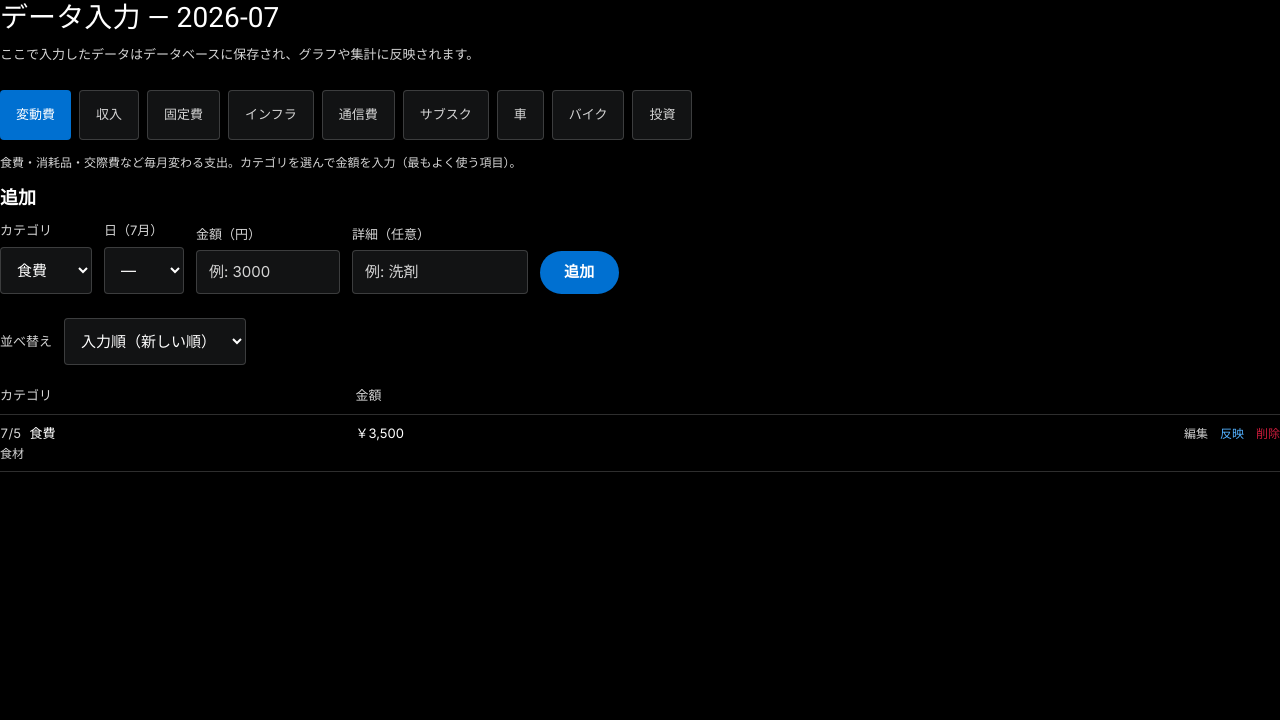
Test: EntryTab - 割り勘アプリへの反映 › 支払者を選んで反映すると、選んだユーザーIDで送信され一覧が反映済みになる
The width and height of the screenshot is (1280, 720).
Click the button "反映" at (1232, 433), box [1220, 424, 1244, 443]
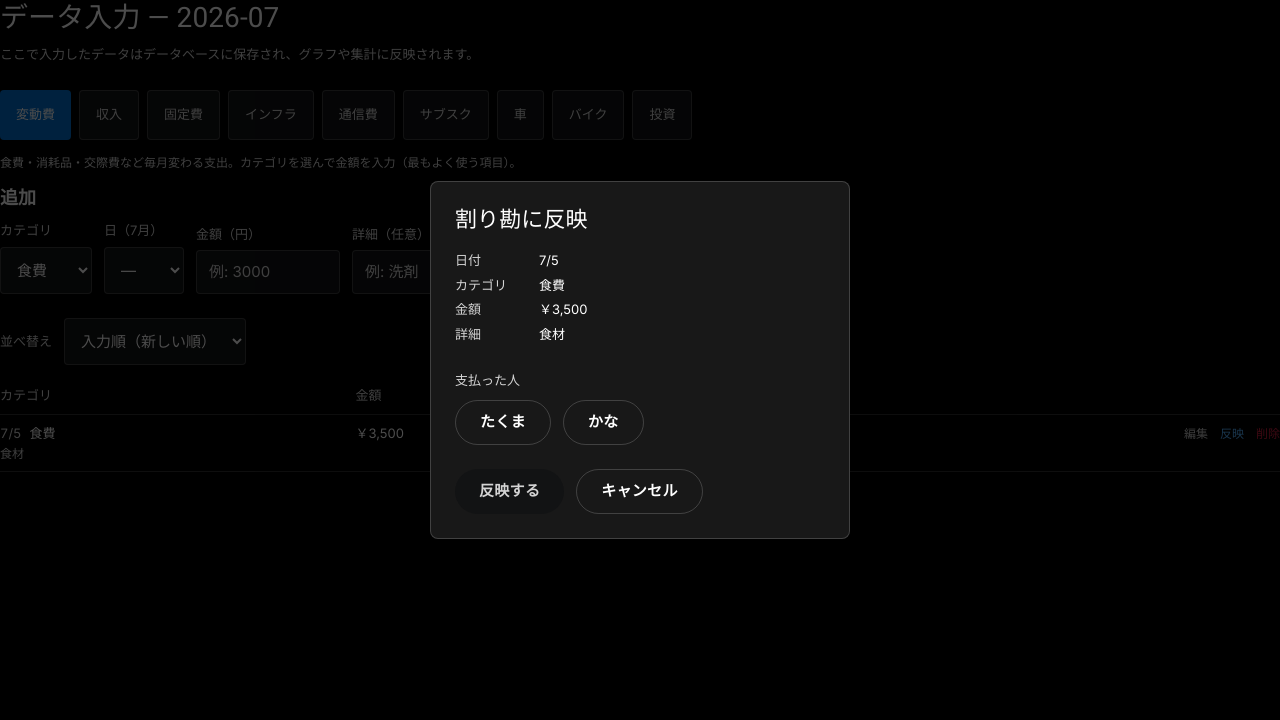
Click the radio button labelled "かな" at (603, 423), box [563, 400, 644, 445]
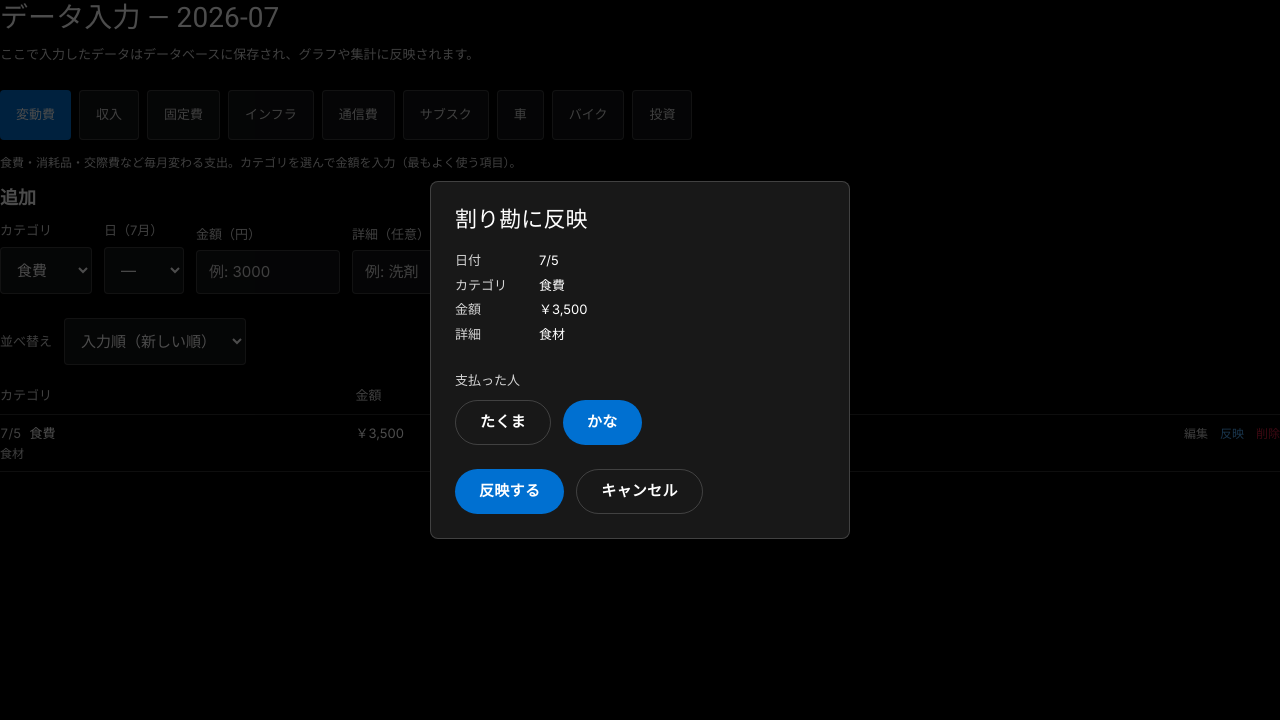
Click the button "反映する" at (510, 491), box [455, 469, 564, 514]
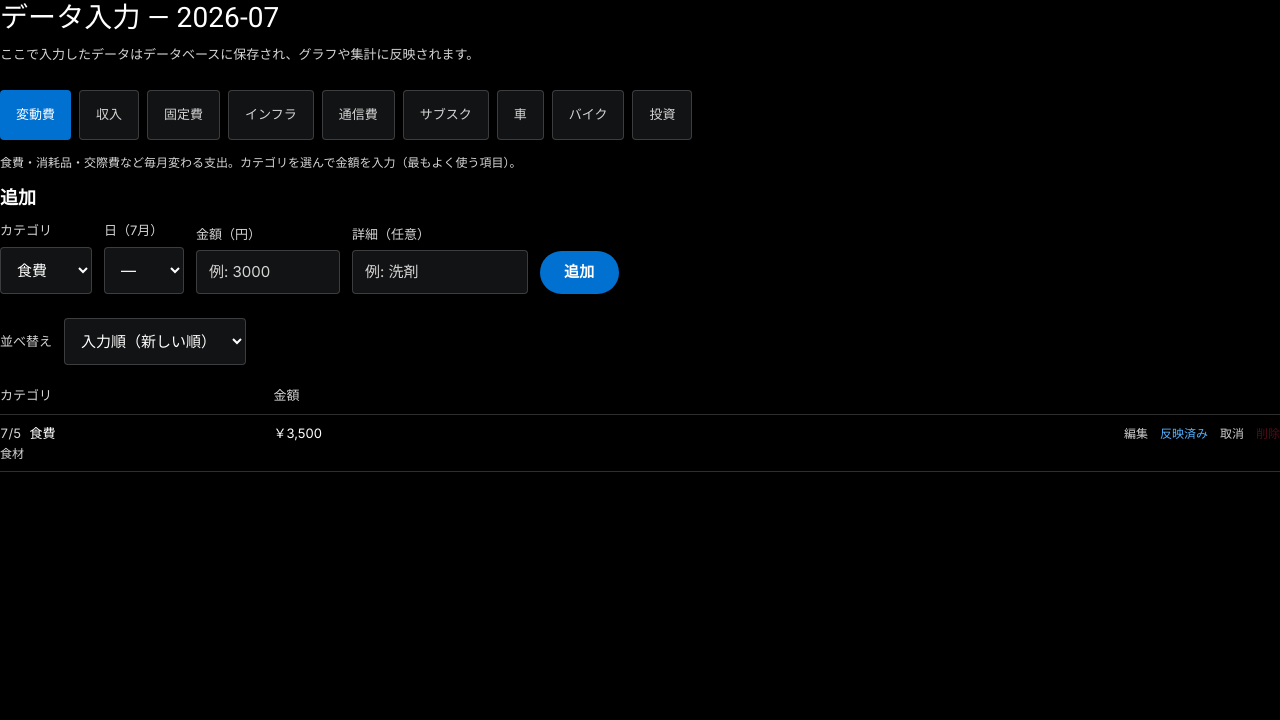
Now the text "反映済み" is shown, box [1160, 426, 1208, 441]
Now the dialog is gone
